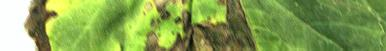Tomato leaf bacterial spot: (5, 0, 310, 51)
